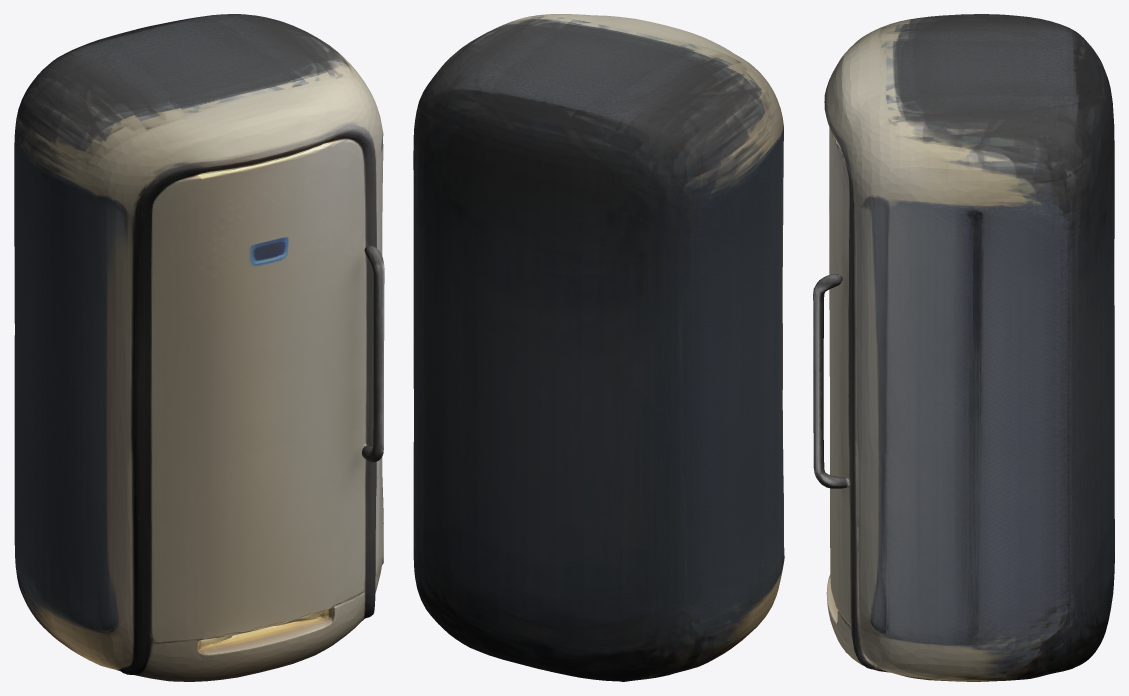
File: stasis_unit.glb
The picture shows the model from 3 angles, left to right: view 1: azimuth 30°, elevation 25°; view 2: azimuth 150°, elevation 25°; view 3: azimuth 270°, elevation 25°; orthographic projection.
Visible parts, largest first — view 1: world; view 2: world; view 3: world.
Part boxes in pixels (x1,y1,x2,y2): world: (14, 14, 384, 681); world: (413, 14, 784, 681); world: (813, 14, 1114, 681).
Bounding box in the file's own units: 0.5648 × 0.9984 × 0.4811.
1 material, 1 textured.
